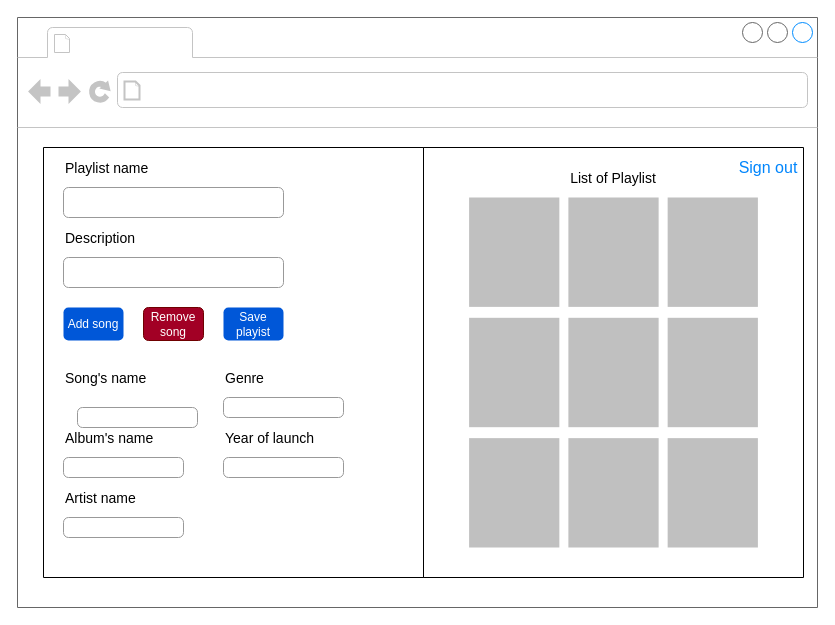
Some shapes in this 835 by 625 pixel diagram are drawn without their labels. The shapes that lost their labels are listed below. From the top down, each one's centre as x and y in pixels, then its label:
the point at 132,42: Page 1
the point at 272,90: https://www.myplaylist.co
